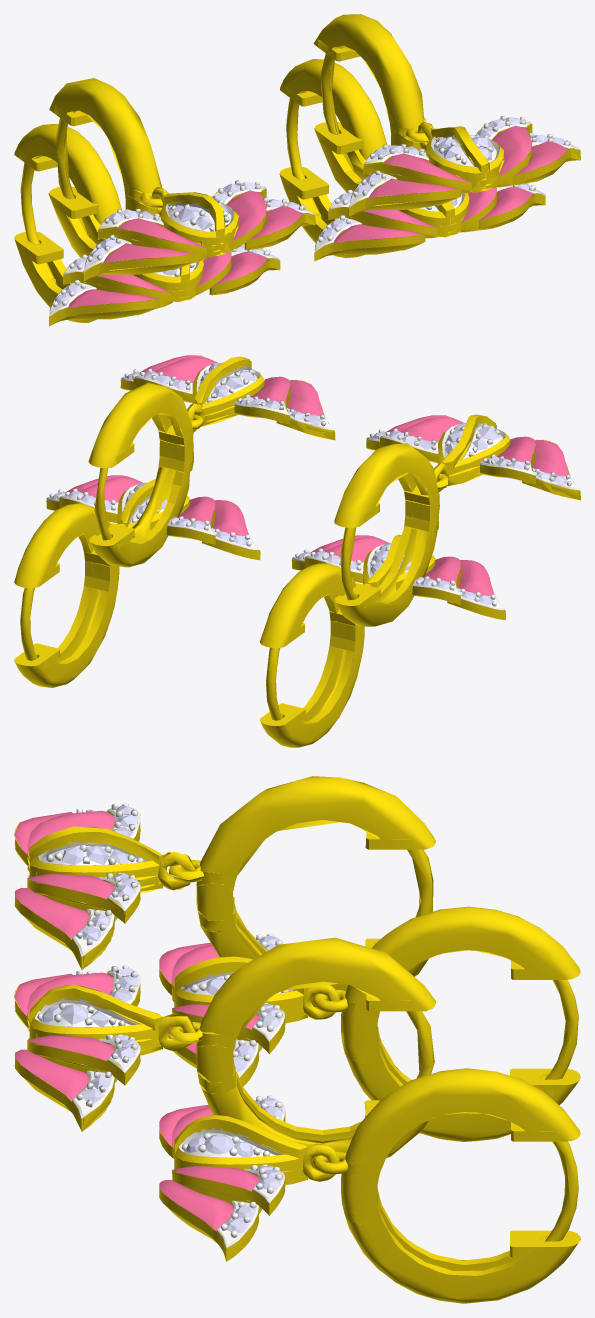
3 views of the same model, one above another, from view 1: azimuth 30°, elevation 25°; view 2: azimuth 150°, elevation 25°; view 3: azimuth 270°, elevation 25° (orthographic). The views are drawn at different scales.
Parts seen in each view (by area): view 1: lowPolyMesh, highPolyMesh; view 2: lowPolyMesh, highPolyMesh; view 3: lowPolyMesh, highPolyMesh.
Part boxes in pixels (left/top/right/bottom): lowPolyMesh: left=48, top=14, right=580, bottom=281; highPolyMesh: left=14, top=59, right=545, bottom=326; lowPolyMesh: left=88, top=355, right=580, bottom=626; highPolyMesh: left=14, top=475, right=505, bottom=747; lowPolyMesh: left=14, top=776, right=435, bottom=1168; highPolyMesh: left=159, top=906, right=580, bottom=1303.
Bounding box in the file's own units: 0.0388 × 0.0198 × 0.0293.
